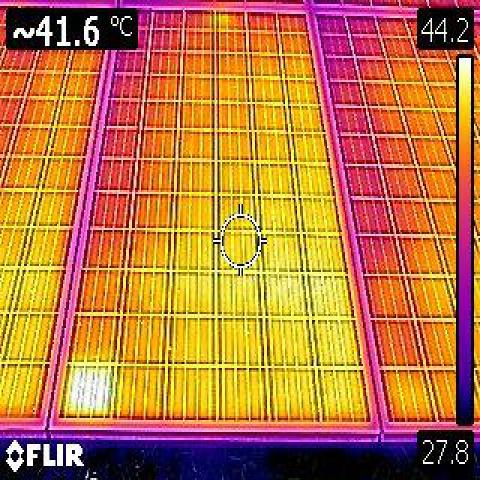fault: (60, 366, 112, 418)
